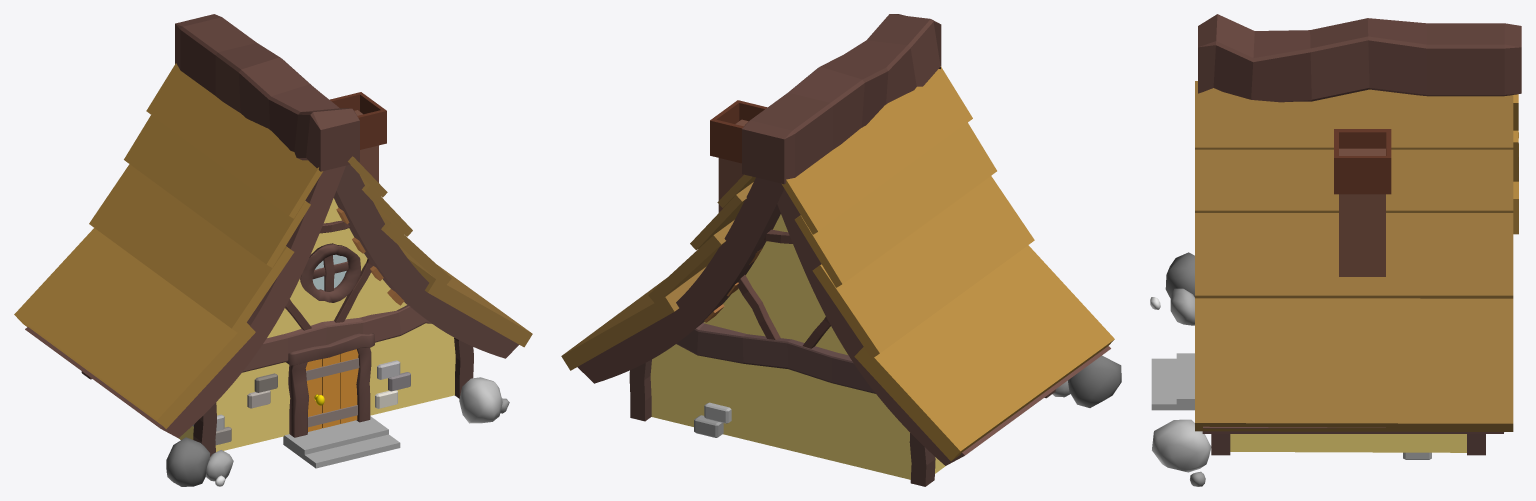
File: cottage_house3.glb
3 views of the same model, side by side, from view 1: azimuth 30°, elevation 25°; view 2: azimuth 150°, elevation 25°; view 3: azimuth 270°, elevation 25° (orthographic). The views are drawn at different scales.
Parts seen in each view (by area): view 1: Cube.053, Cube.001, Cube, NurbsPath.001, NurbsPath, Cube.049, Cube.002, Cube.004, Cube.044, Cube.020, Cube.007, Icosphere.002 (+7 smaller); view 2: Cube.053, Cube, Cube.001, NurbsPath, Cube.049, Cube.003, NurbsPath.001, Cube.022, Cube.006, Icosphere.002, Cube.041, Cube.005; view 3: Cube.049, Cube.001, Cube, Cube.005, Cube.006, Cube.044, Icosphere, NurbsPath, Icosphere.002, Cube.022, Cube.053, Icosphere.003.
Part boxes in pixels (x1,y1,x2,y2): Cube.053: [14, 63, 322, 428]; Cube.001: [175, 14, 359, 171]; Cube: [178, 198, 455, 451]; NurbsPath.001: [25, 165, 345, 438]; NurbsPath: [333, 164, 518, 358]; Cube.049: [348, 156, 532, 347]; Cube.002: [242, 305, 431, 372]; Cube.004: [286, 333, 374, 437]; Cube.044: [283, 416, 400, 468]; Cube.020: [305, 349, 358, 431]; Cube.007: [300, 243, 360, 302]; Icosphere.002: [166, 437, 210, 486]; Cube.053: [781, 66, 1114, 461]; Cube: [650, 214, 945, 479]; Cube.001: [742, 14, 941, 184]; NurbsPath: [577, 177, 784, 383]; Cube.049: [561, 174, 755, 370]; Cube.003: [676, 322, 875, 393]; NurbsPath.001: [777, 189, 1110, 465]; Cube.022: [629, 359, 1055, 486]; Cube.006: [710, 100, 767, 163]; Icosphere.002: [1068, 355, 1121, 407]; Cube.041: [737, 229, 830, 348]; Cube.005: [718, 119, 748, 212]; Cube.049: [1195, 81, 1513, 431]; Cube.001: [1198, 14, 1521, 102]; Cube: [1230, 434, 1466, 452]; Cube.005: [1339, 148, 1385, 276]; Cube.006: [1334, 129, 1391, 194]; Cube.044: [1151, 353, 1194, 410]; Icosphere: [1152, 419, 1211, 472]; NurbsPath: [1202, 426, 1503, 433]; Icosphere.002: [1165, 252, 1194, 298]; Cube.022: [1211, 434, 1485, 455]; Cube.053: [1513, 94, 1518, 234]; Icosphere.003: [1170, 288, 1194, 325].
Size of the model in its own units: 7.35 by 6.36 by 5.71.
